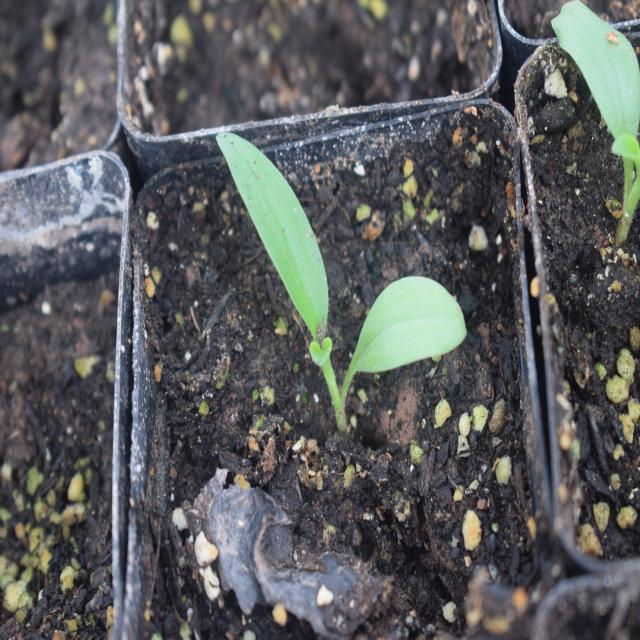Common Dayflower: (224, 119, 472, 431)
